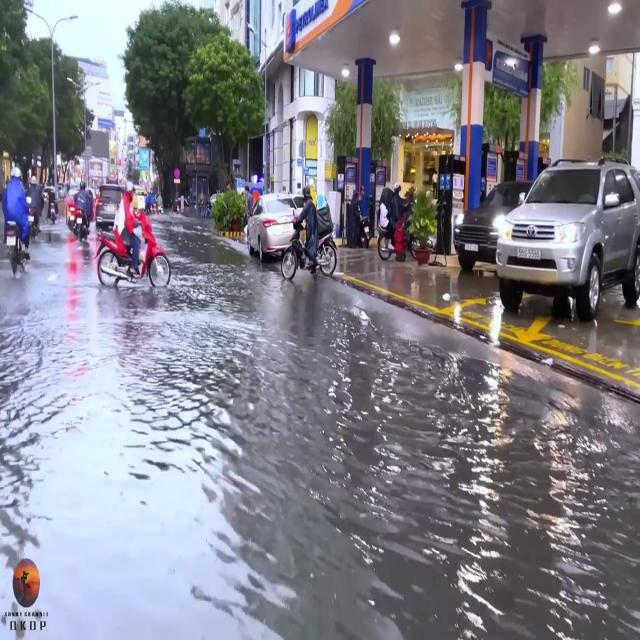bien_trang: (515, 247, 542, 261)
